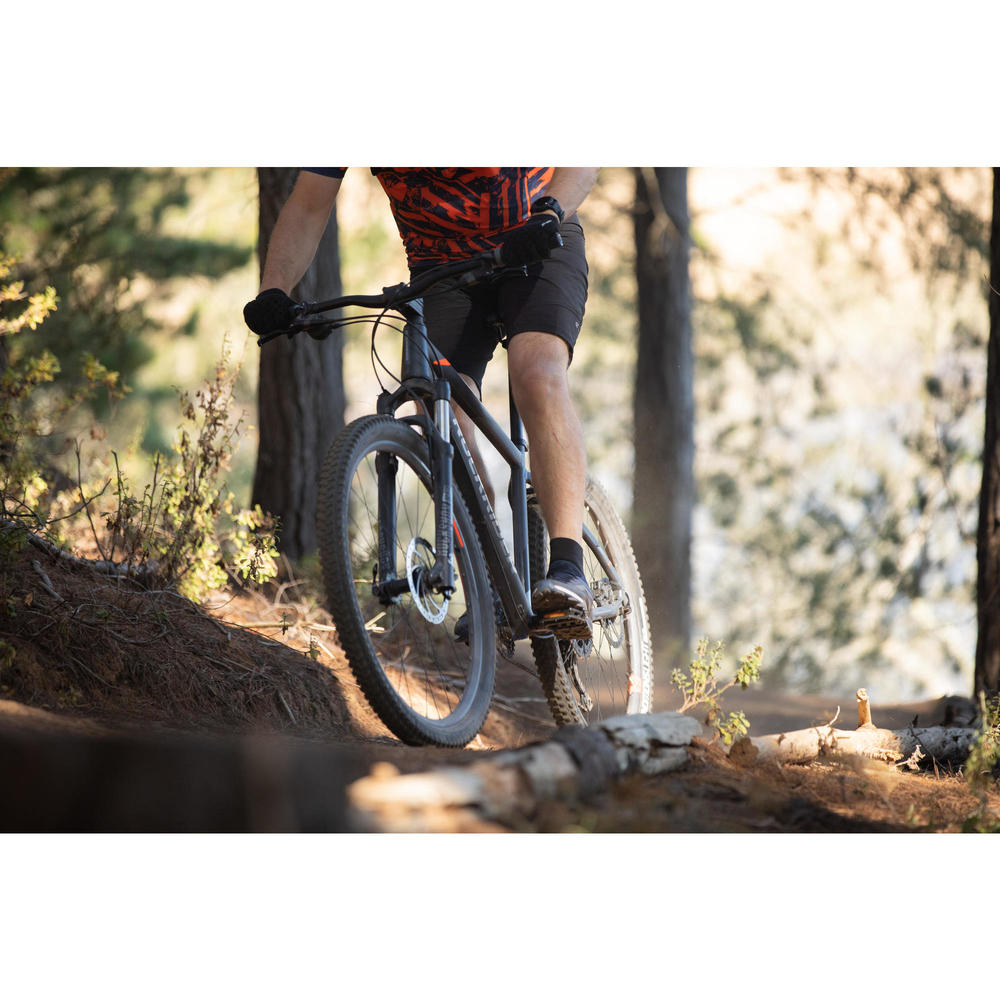MountainBike: (244, 232, 652, 765)
